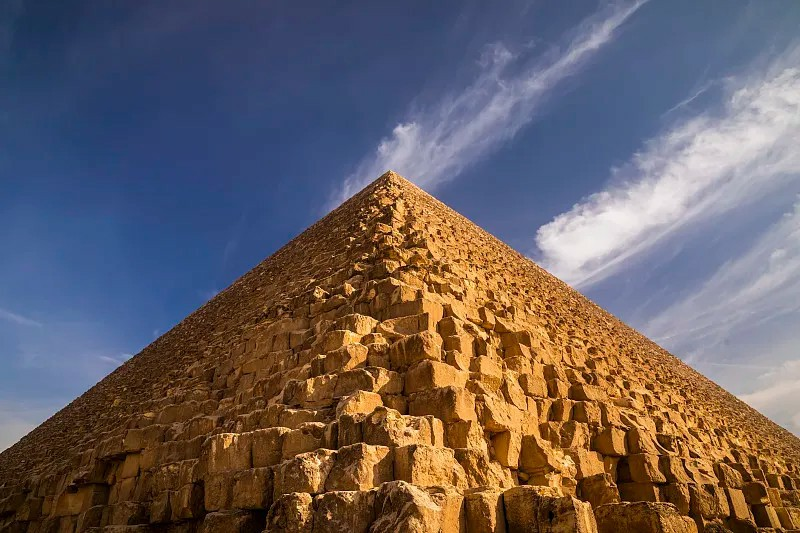Pyramid: (1, 168, 800, 533)
